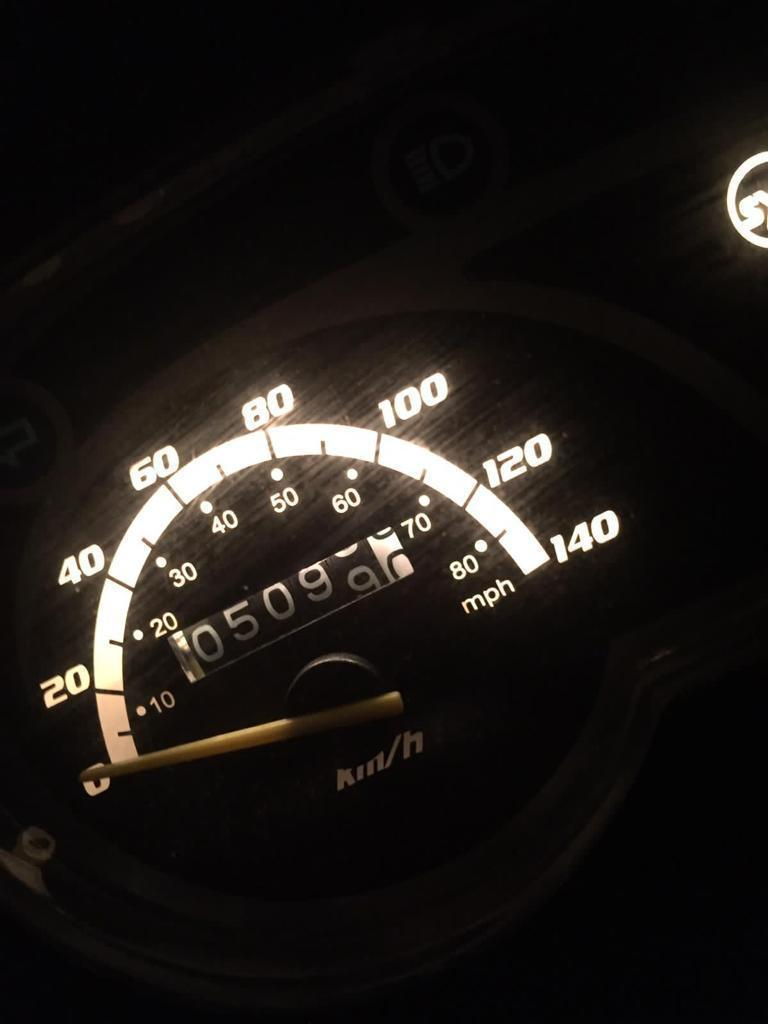0: (188, 623, 225, 664), (261, 580, 297, 620), (385, 547, 416, 579), (161, 611, 178, 630), (181, 561, 196, 581)
3: (168, 568, 185, 587)
4: (208, 523, 226, 537)
5: (220, 598, 261, 642)
7: (400, 523, 414, 539)
9: (296, 563, 332, 603), (346, 564, 382, 599)
odometer: (163, 523, 417, 686)
